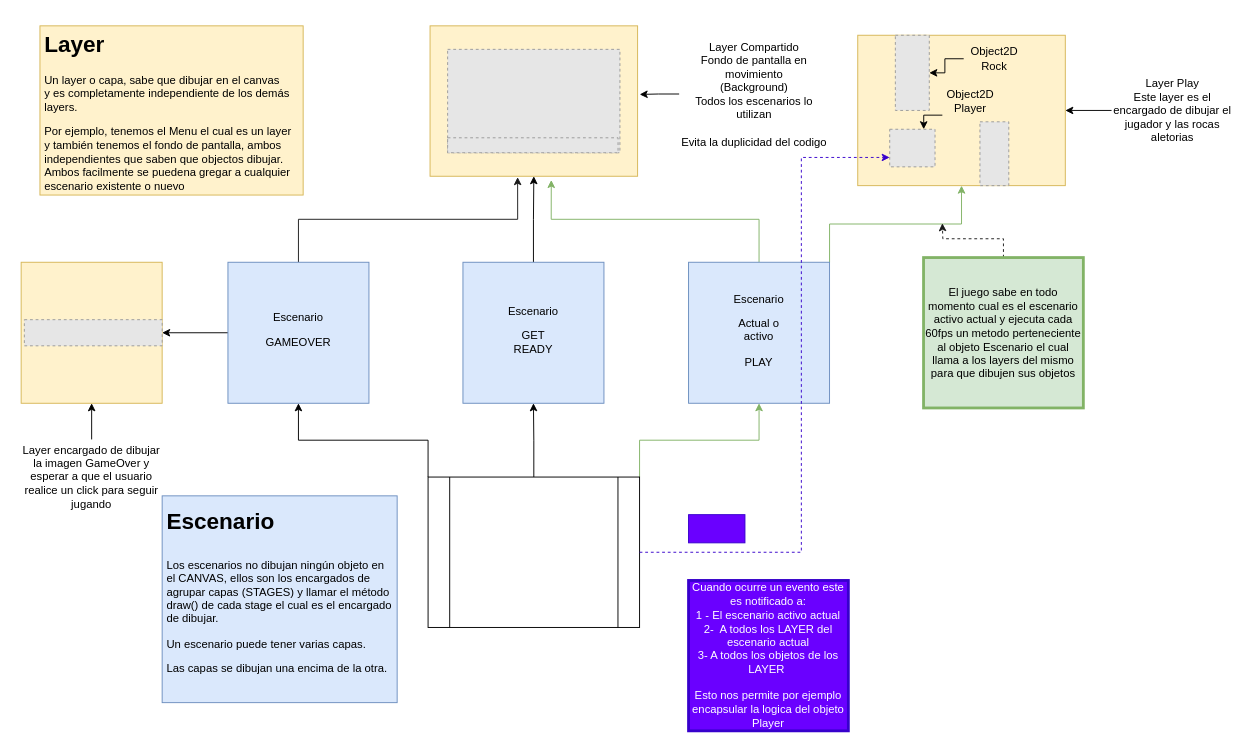
Image size: 1249x748. Some labels were removed from this diagram. Grey dashed boxes stand in for pictures. Each missing label, with the centre of its shape:
Evento CLICK: the point at 716,528
Juego: the point at 533,551
